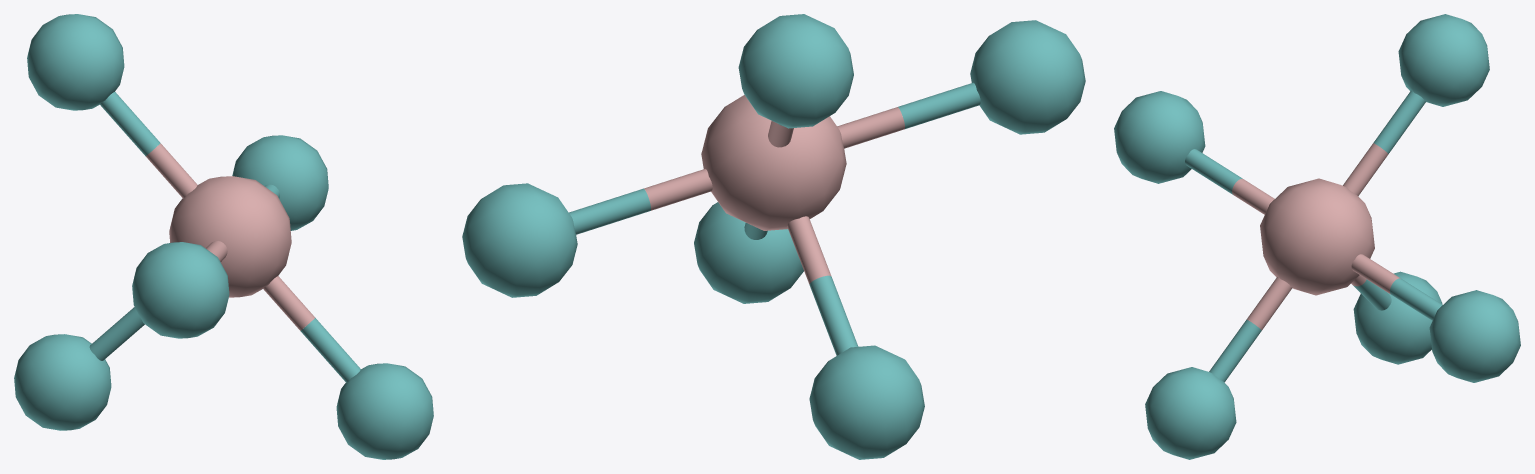
File: BrF5.gltf
3 renders of one model, left to right at view 1: azimuth 30°, elevation 25°; view 2: azimuth 150°, elevation 25°; view 3: azimuth 270°, elevation 25°, orthographic. The views are drawn at different scales.
Visible parts, largest first — view 1: vmd_mol1_rep0; view 2: vmd_mol1_rep0; view 3: vmd_mol1_rep0.
Part boxes in pixels (box(x1,y1,x2,y2)): vmd_mol1_rep0: box(14, 14, 433, 459); vmd_mol1_rep0: box(462, 14, 1085, 459); vmd_mol1_rep0: box(1114, 14, 1520, 459).
Bounding box in the file's own units: 1.3 × 1.36 × 1.4.
